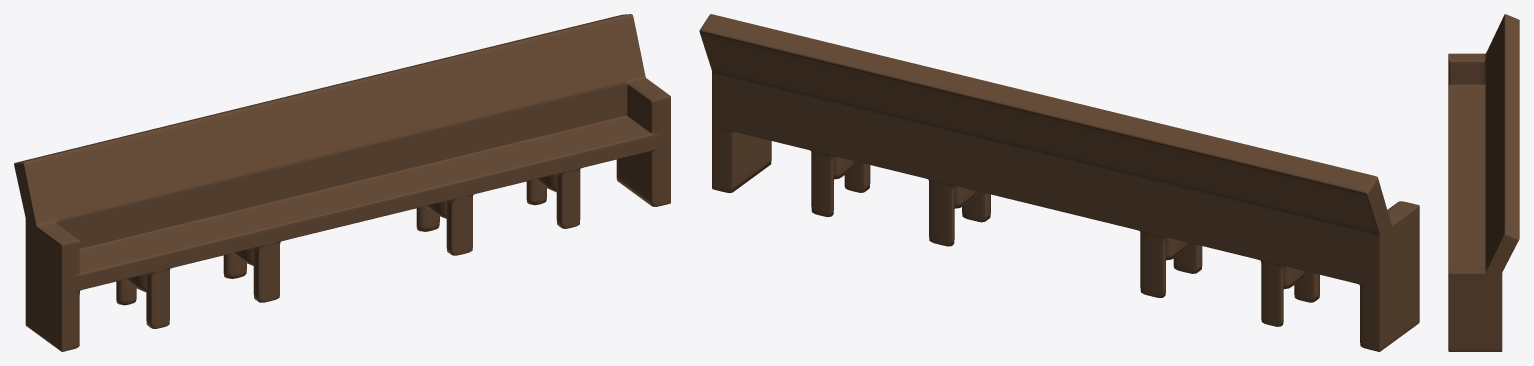
The model's file is Church_pew.fbx.
3 renders of one model, left to right at view 1: azimuth 30°, elevation 25°; view 2: azimuth 150°, elevation 25°; view 3: azimuth 270°, elevation 25°, orthographic. The views are drawn at different scales.
Parts seen in each view (by area): view 1: Pew; view 2: Pew; view 3: Pew.
Boxes of the visible parts, left/top/right/bottom form: Pew: left=14, top=14, right=670, bottom=351; Pew: left=699, top=14, right=1419, bottom=351; Pew: left=1448, top=14, right=1519, bottom=351.
Bounding box in the file's own units: 4667 × 1185 × 640.
